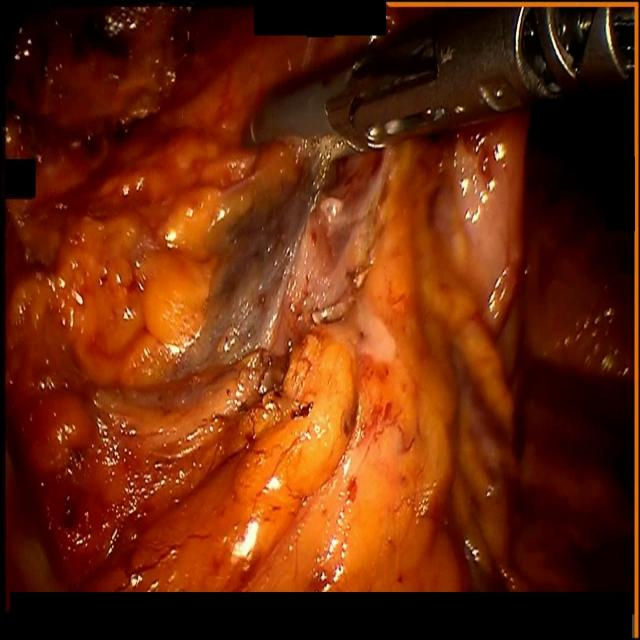surgical-area: (2, 0, 634, 596)
surgical-tool: (244, 5, 636, 160)
